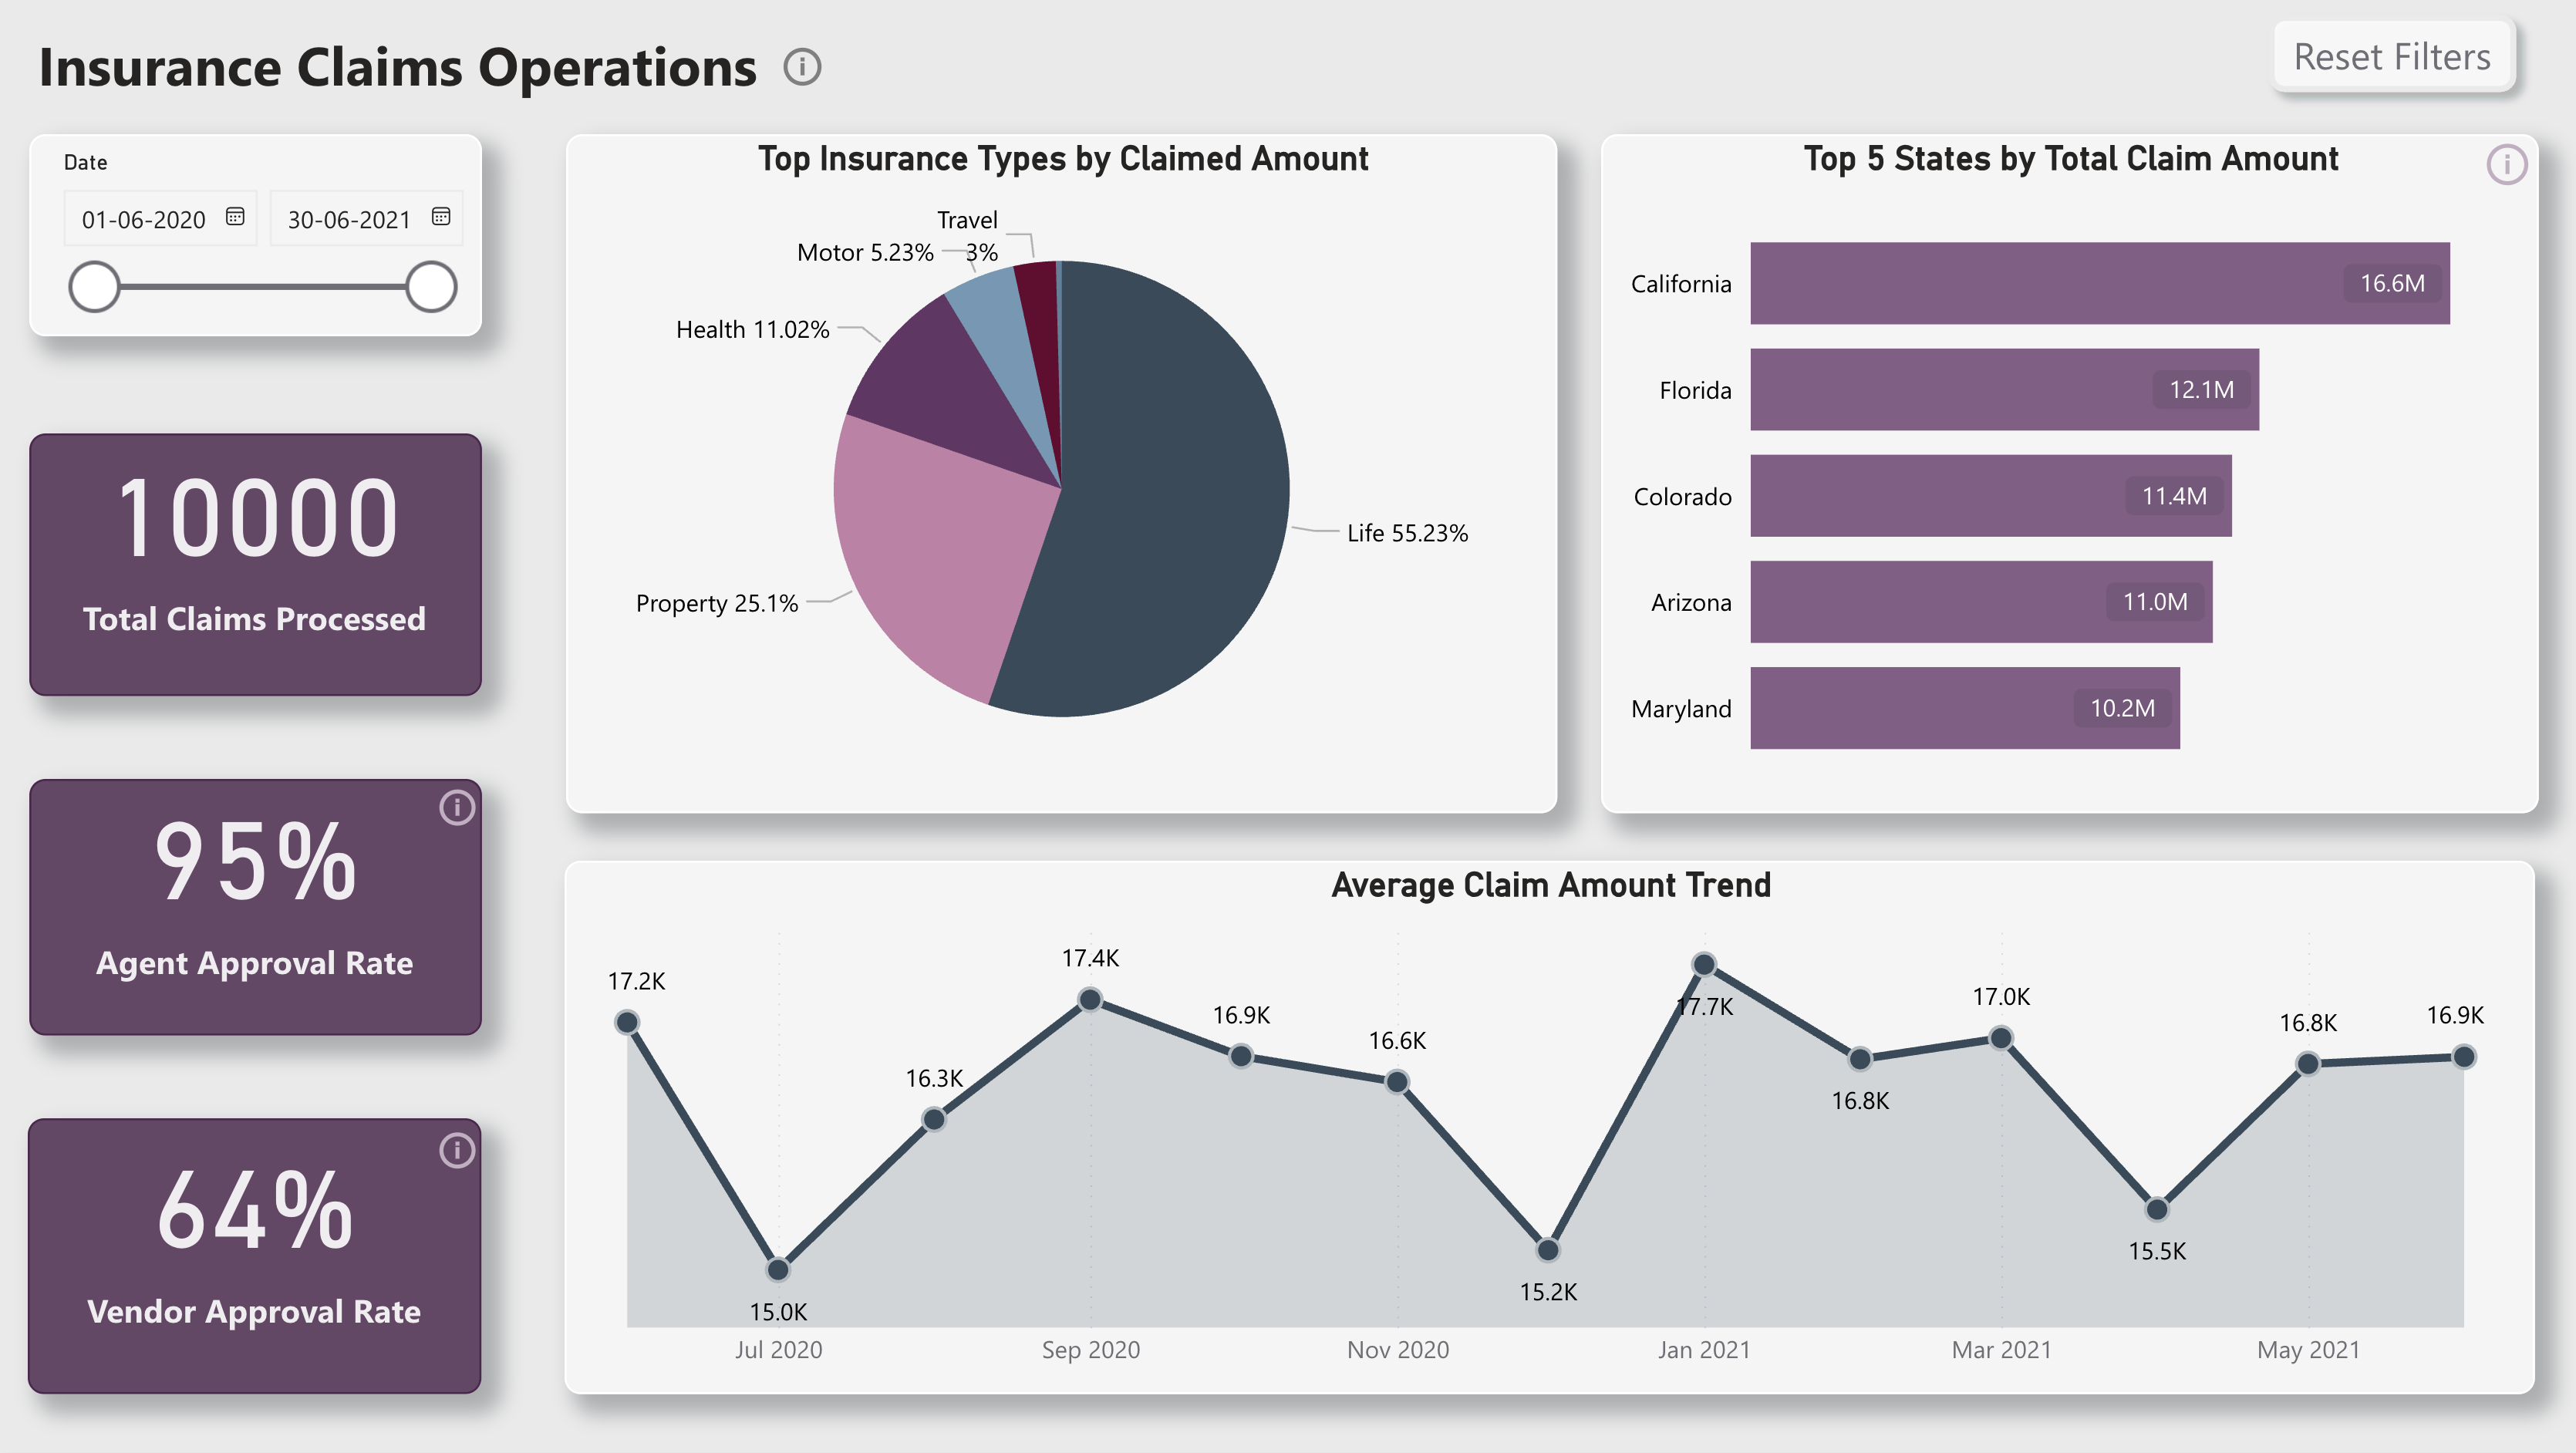

This screenshot's page, from the dashboard's own definition file:
{"tool":"powerbi","page":{"name":"Executive Summary","canvas":[1280,720],"ordinal":0},"visuals":[{"type":"cardVisual","title":"Total Claims Processed","fields":{"Data":["Count(INSURANCE_DATA.TRANSACTION_ID)"]},"box":[16.5,216.3,223.9,129.8],"z":0},{"type":"cardVisual","title":"Agent Approval Rate","fields":{"Data":["ALL_MEASURES.AGENT_APPROVAL_RATE_Card(%)"]},"box":[16.5,386.8,223.9,127.2],"z":1000},{"type":"barChart","title":"Top 5 States by Total Claim Amount","fields":{"Y":["Sum(INSURANCE_DATA.CLAIM_AMOUNT)"],"Category":["US_State_Lookup.STATE_NAME"]},"box":[794.5,68.2,463.9,335.8],"z":2000},{"type":"pieChart","title":"Top Insurance Types by Claimed Amount","fields":{"Category":["INSURANCE_DATA.INSURANCE_TYPE"],"Y":["Sum(INSURANCE_DATA.CLAIM_AMOUNT)"]},"box":[282,68.2,490.7,335.8],"z":3000},{"type":"lineChart","title":"Average Claim Amount Trend","fields":{"Y":["Avg(INSURANCE_DATA.CLAIM_AMOUNT)"],"Category":["DateTable.Date.Variation.Date Hierarchy.Year","DateTable.Date.Variation.Date Hierarchy.Month"]},"box":[281.3,427.4,975,264.2],"z":4000},{"type":"cardVisual","title":"Vendor Approval Rate","fields":{"Data":["ALL_MEASURES.VENDOR_APPROVAL_RATE_Card(%)"]},"box":[16.1,555.2,224.4,136.4],"z":5000},{"type":"slicer","fields":{"Values":["DateTable.Date"]},"box":[16.5,68.2,224.2,100.2],"z":6000},{"type":"actionButton","box":[1116,0,140.5,56.2],"z":7000},{"type":"actionButton","box":[385.5,19.3,27.9,31.1],"z":8000},{"type":"textbox","box":[16.1,9.7,383.4,48.3],"z":9000},{"type":"actionButton","box":[214.9,386.4,26.9,30],"z":10000},{"type":"actionButton","box":[1228.3,68.2,30,30],"z":11000},{"type":"actionButton","box":[214.9,554.8,26.9,32],"z":12000}]}

Visuals, with their boxes in screenshot pixels (x1, y1, x2, y2), scaled from the page's 1280x720 canvas onto the 2576x1453 screenshot:
"Total Claims Processed" cardVisual: 33/437/484/699
"Agent Approval Rate" cardVisual: 33/780/484/1037
"Top 5 States by Total Claim Amount" barChart: 1599/137/2533/815
"Top Insurance Types by Claimed Amount" pieChart: 568/137/1555/815
"Average Claim Amount Trend" lineChart: 566/862/2528/1396
"Vendor Approval Rate" cardVisual: 32/1121/484/1396
slicer - DateTable.Date: 33/137/484/340
actionButton: 2246/0/2529/113
actionButton: 776/39/832/102
textbox: 32/19/804/117
actionButton: 433/780/487/841
actionButton: 2472/137/2532/198
actionButton: 433/1120/487/1184
